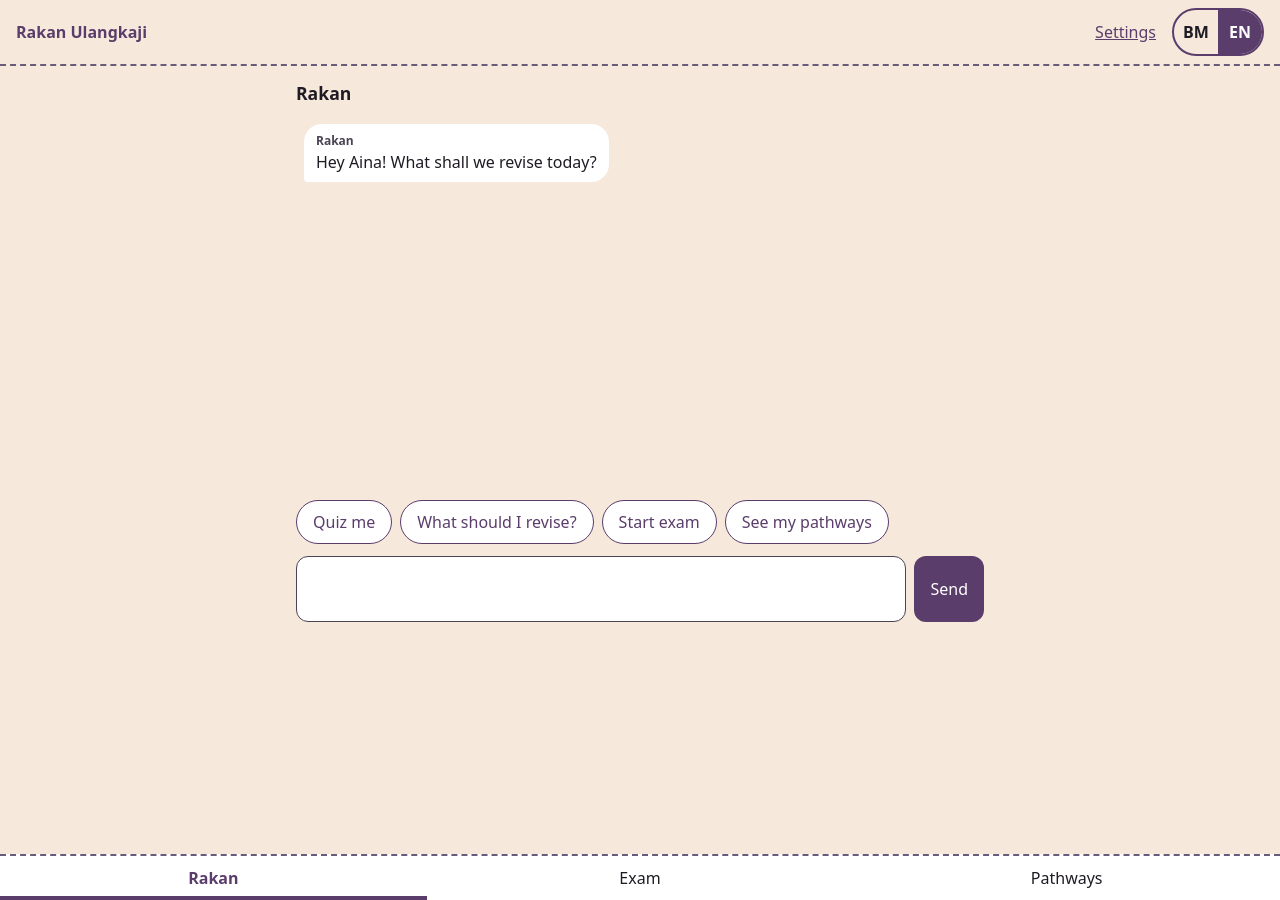
Test: Rakan chat screen › sends a message, labels it, replies and removes the typing indicator
The image size is (1280, 900).
Type "hello" into the text box named "Type a message" at (601, 589), box 296,556 -> 906,622
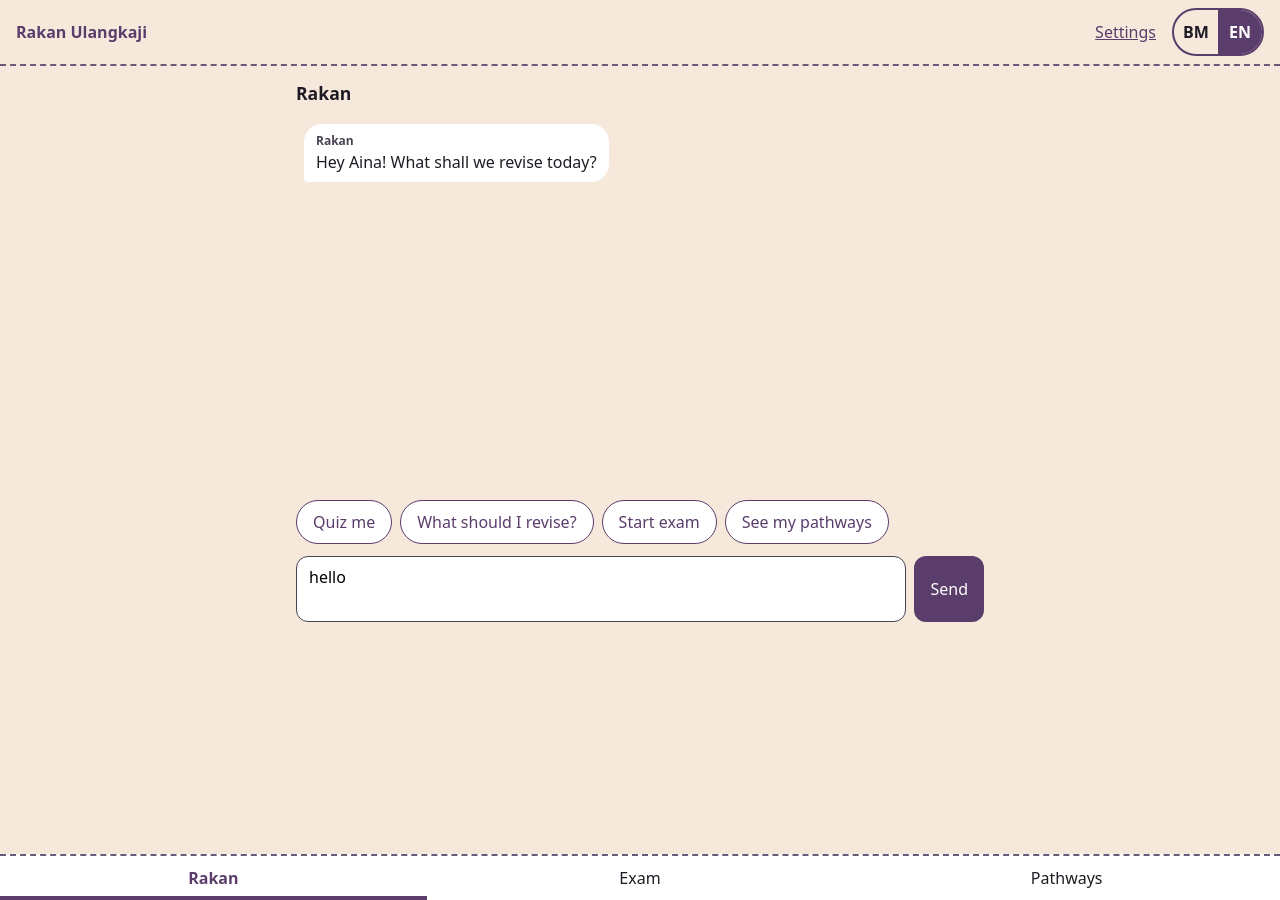
Click the button "Send" at (949, 589), box 914,556 -> 984,622
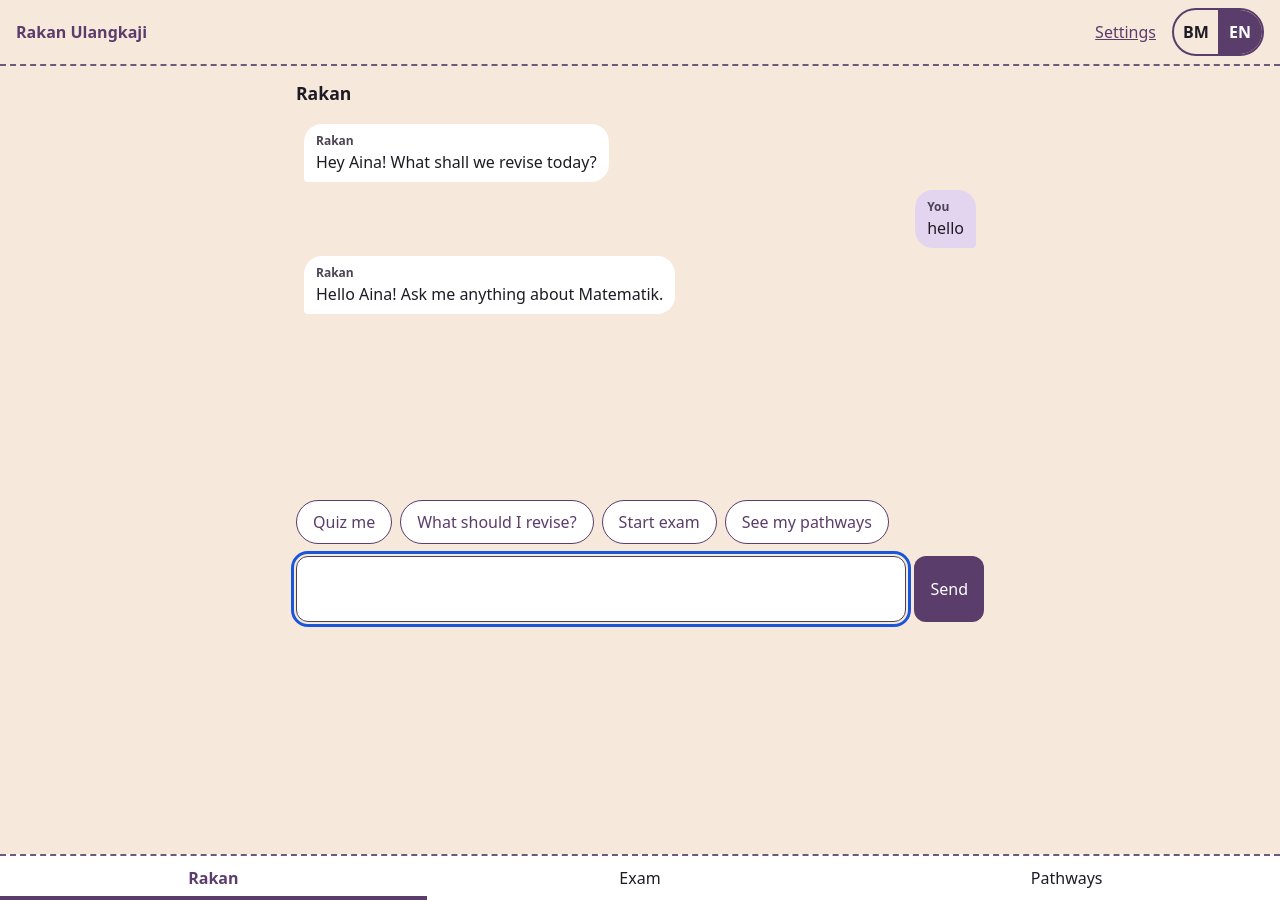
Now the text "You" is shown, box 927,198 -> 949,215
Now the text box named "Type a message" is empty, box 296,556 -> 906,622
